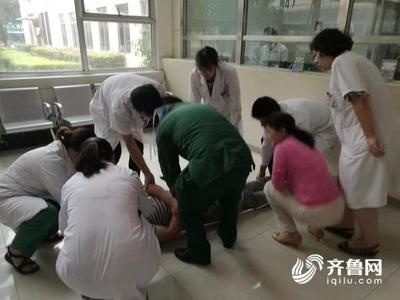falling: (129, 158, 306, 242)
